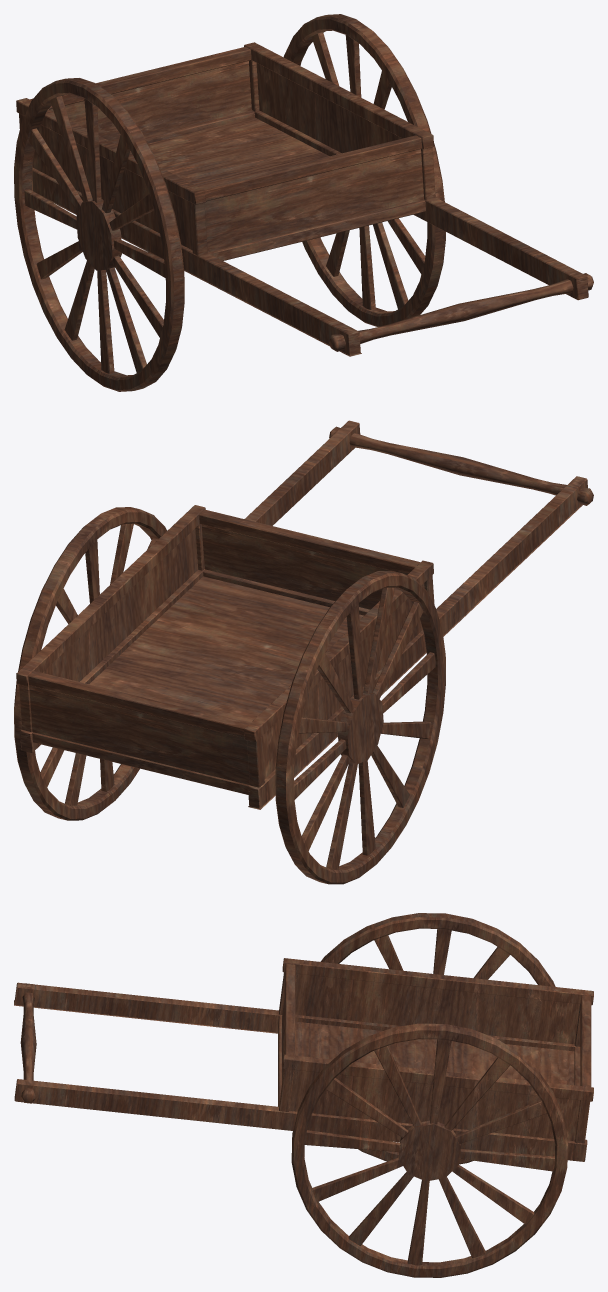
3 views of the same model, one above another, from view 1: azimuth 30°, elevation 25°; view 2: azimuth 150°, elevation 25°; view 3: azimuth 270°, elevation 25° (orthographic). The views are drawn at different scales.
Visible parts, largest first — view 1: rickshaw_two_wheeler; view 2: rickshaw_two_wheeler; view 3: rickshaw_two_wheeler.
Part boxes in pixels (<box>): rickshaw_two_wheeler: <box>14,14,593,391</box>; rickshaw_two_wheeler: <box>14,420,593,884</box>; rickshaw_two_wheeler: <box>14,913,593,1277</box>.
Bounding box in the file's own units: 1.13 × 1.13 × 2.37.
